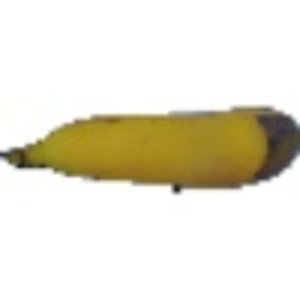banana: (1, 98, 297, 193)
